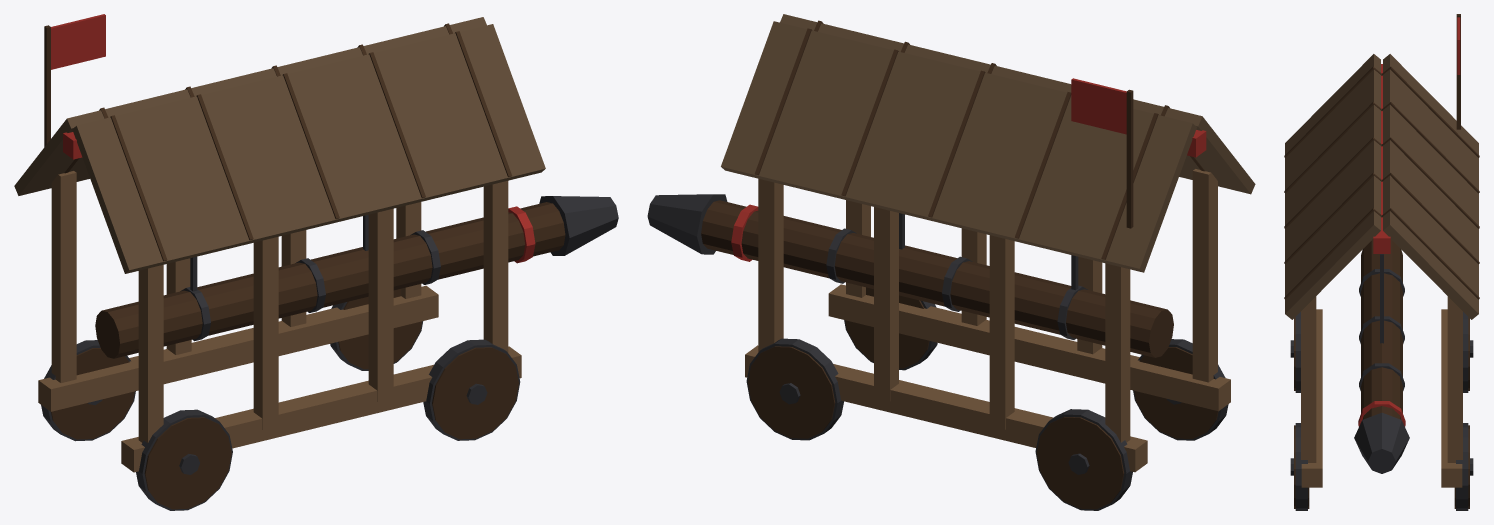
Rendered from taran_rus.glb.
3 renders of one model, left to right at view 1: azimuth 30°, elevation 25°; view 2: azimuth 150°, elevation 25°; view 3: azimuth 270°, elevation 25°, orthographic. The views are drawn at different scales.
Visible parts, largest first — view 1: Body, Log; view 2: Body, Log; view 3: Body, Log.
Part boxes in pixels (x1,y1,x2,y2): Body: [14, 14, 545, 510]; Log: [95, 196, 618, 358]; Body: [721, 14, 1255, 510]; Log: [647, 194, 1173, 357]; Body: [1284, 14, 1479, 510]; Log: [1354, 239, 1409, 473].
Bounding box in the file's own units: 7.55 × 5.63 × 2.8.
